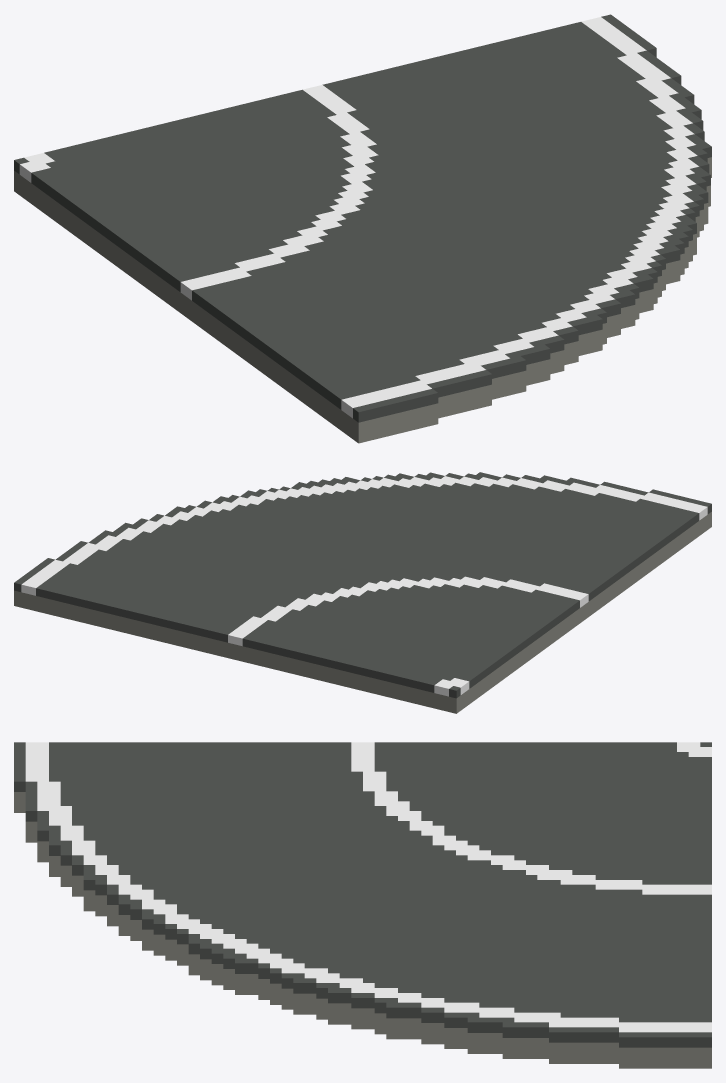
File: round-road.glb
3 views of the same model, one above another, from view 1: azimuth 30°, elevation 25°; view 2: azimuth 150°, elevation 25°; view 3: azimuth 270°, elevation 25° (orthographic). The views are drawn at different scales.
Parts seen in each view (by area): view 1: round; view 2: round; view 3: round.
Boxes of the visible parts, left/top/right/bottom form: round: left=14, top=14, right=711, bottom=443; round: left=14, top=472, right=711, bottom=713; round: left=14, top=742, right=711, bottom=1068.
Bounding box in the file's own units: 1 × 0.05 × 1.
1 material, 1 textured.
